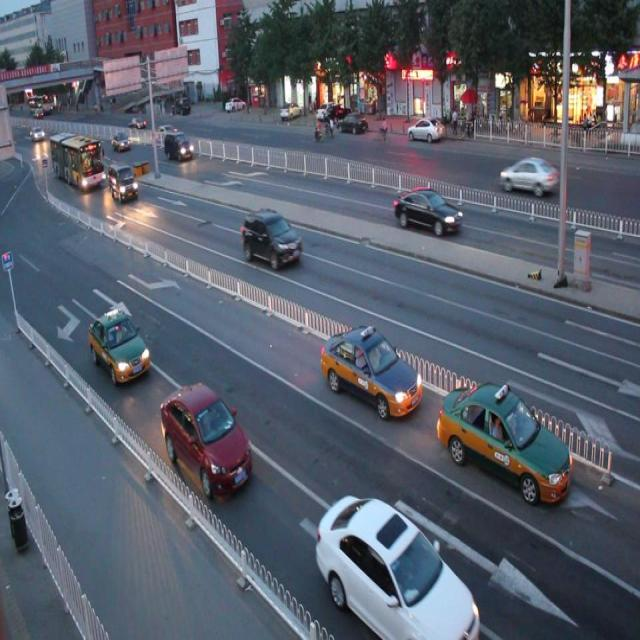car: (315, 493, 480, 640), (438, 376, 572, 502), (159, 379, 252, 498), (318, 323, 424, 418), (89, 309, 150, 384), (240, 209, 300, 271), (393, 186, 462, 237), (498, 155, 558, 196)
